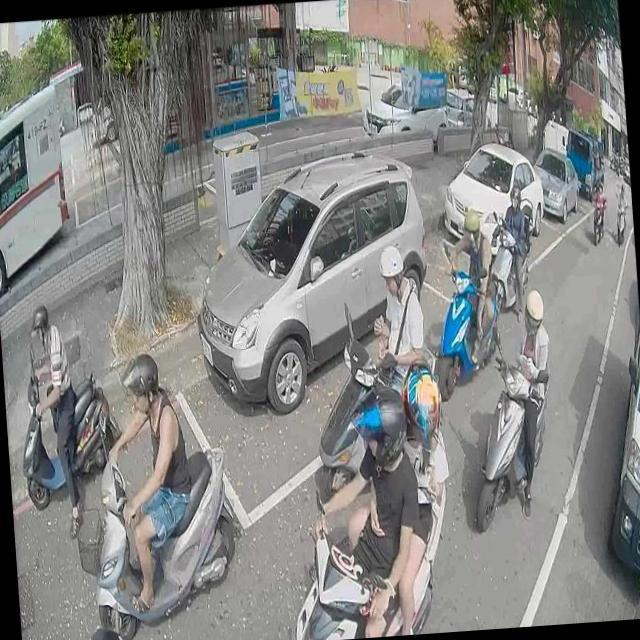person: (336, 358, 461, 636), (296, 388, 429, 640), (96, 342, 200, 620), (21, 297, 89, 530), (498, 280, 558, 519), (363, 244, 426, 406), (443, 194, 498, 364), (493, 185, 538, 315), (86, 613, 130, 640), (590, 182, 608, 233), (615, 182, 628, 213)
